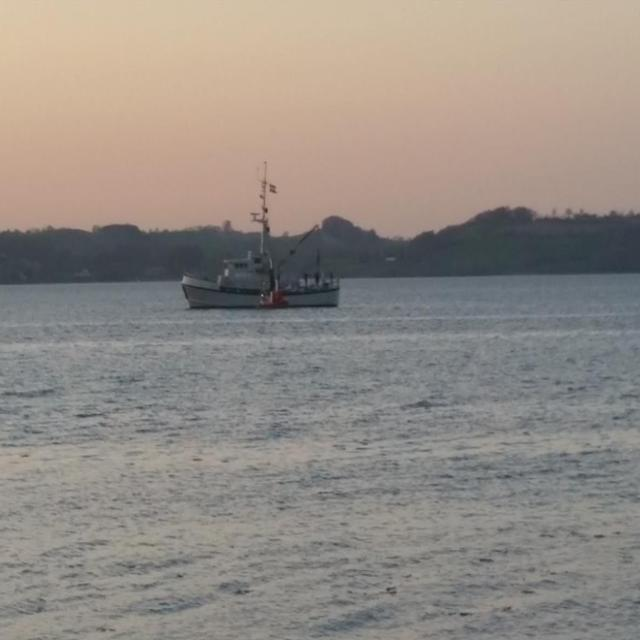fishing boat: (177, 194, 353, 324)
